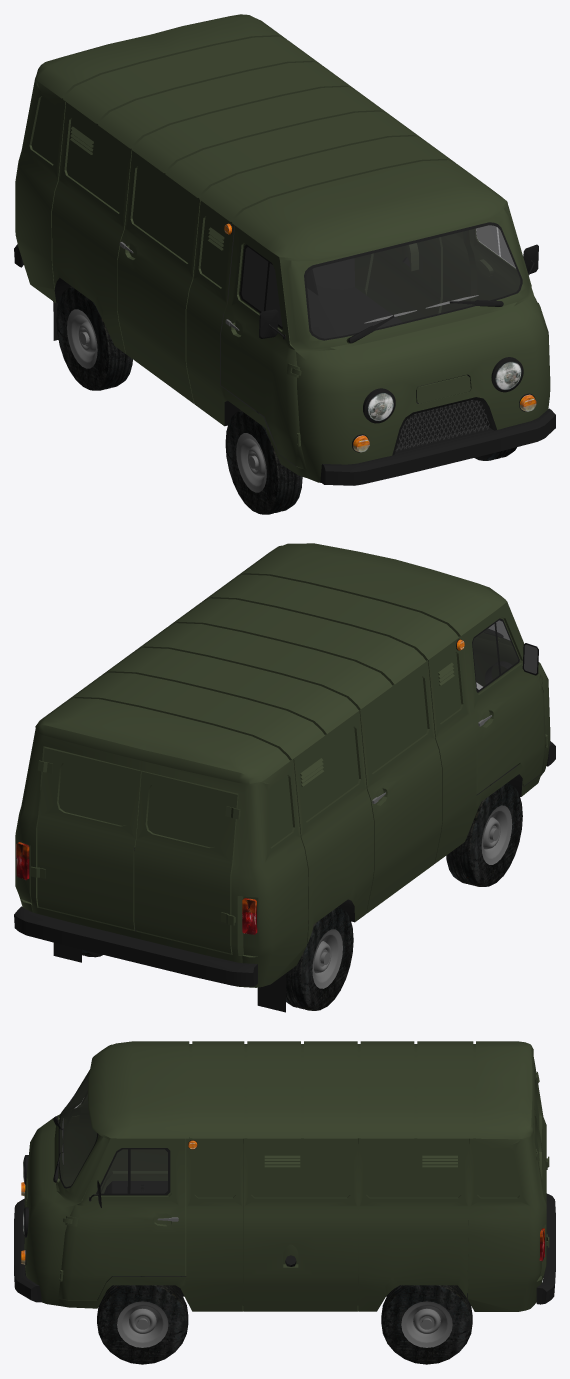
The model's file is uaz-452_soviet_minivan.glb.
3 renders of one model, top to bottom at view 1: azimuth 30°, elevation 25°; view 2: azimuth 150°, elevation 25°; view 3: azimuth 270°, elevation 25°, orthographic. The views are drawn at different scales.
Bounding box in the file's own units: 1.64 × 1.6 × 3.29.
Materials: 7 (3 with a texture image).
